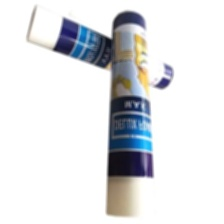aerosol_cans: (25, 2, 174, 91), (103, 7, 159, 221)
